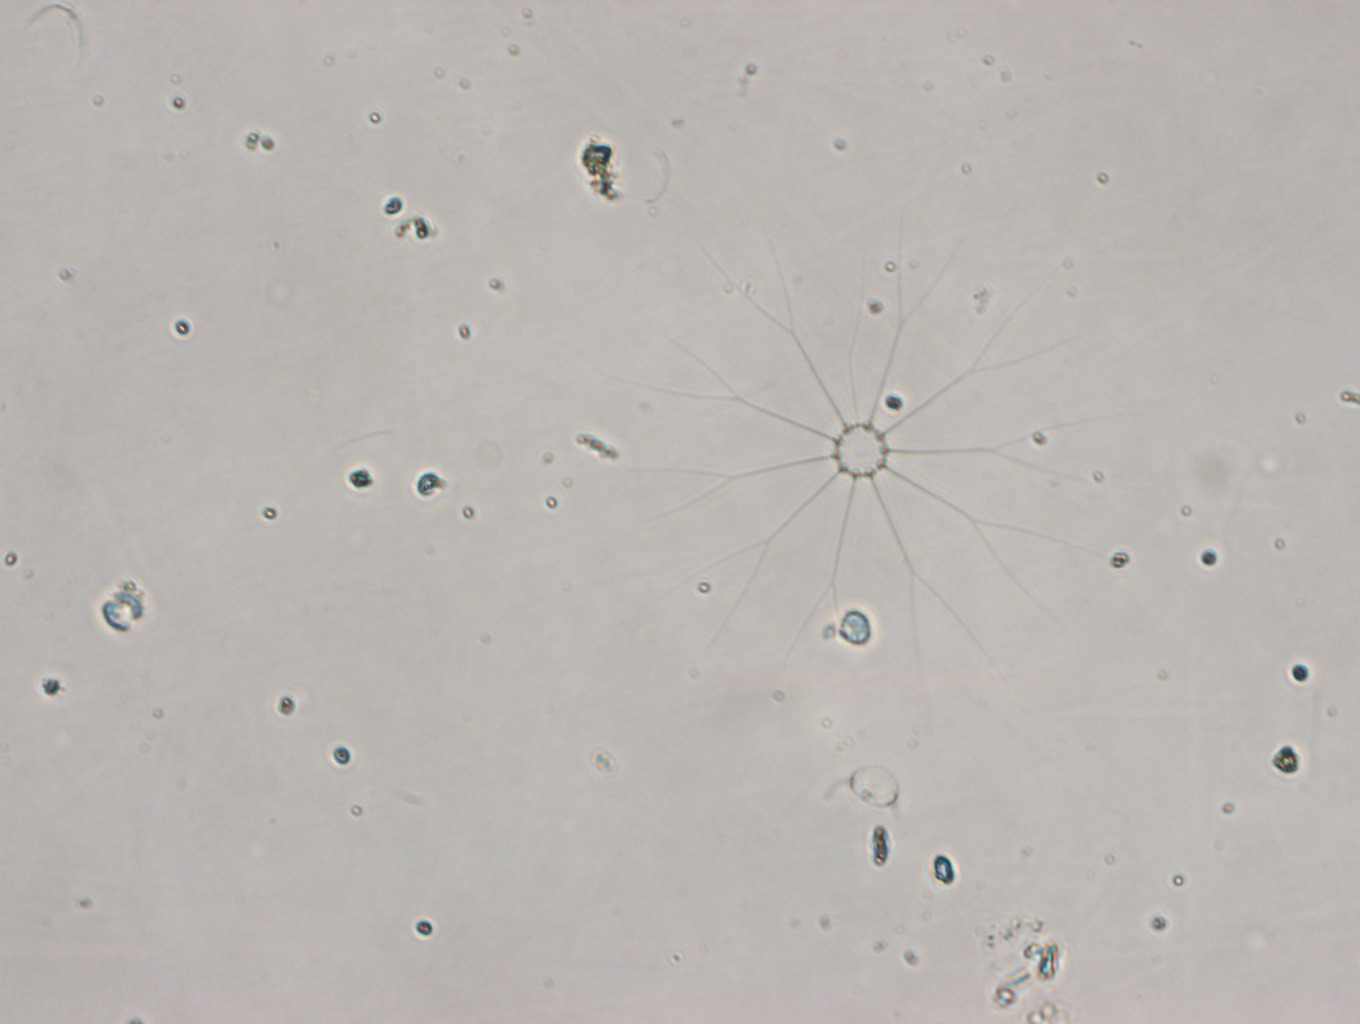bacteriastrum: (626, 210, 1110, 675)
